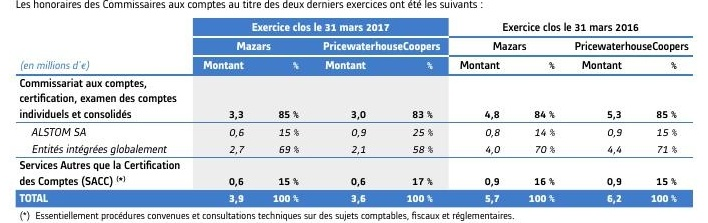table: (0, 0, 708, 223)
